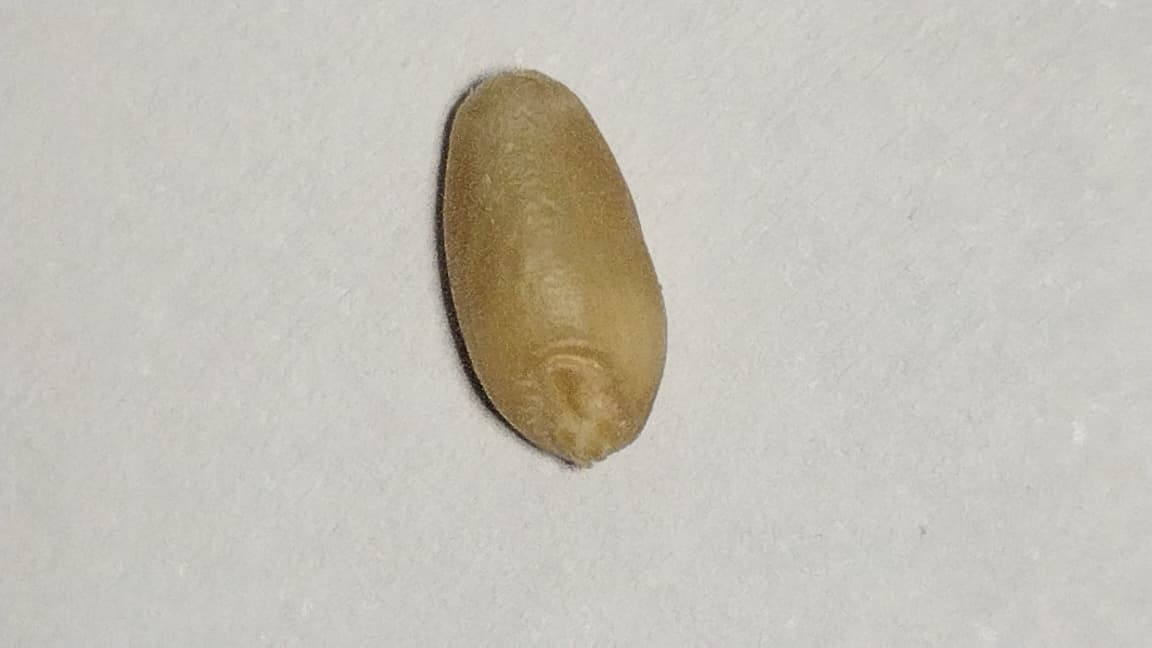healthy: (437, 66, 666, 463)
